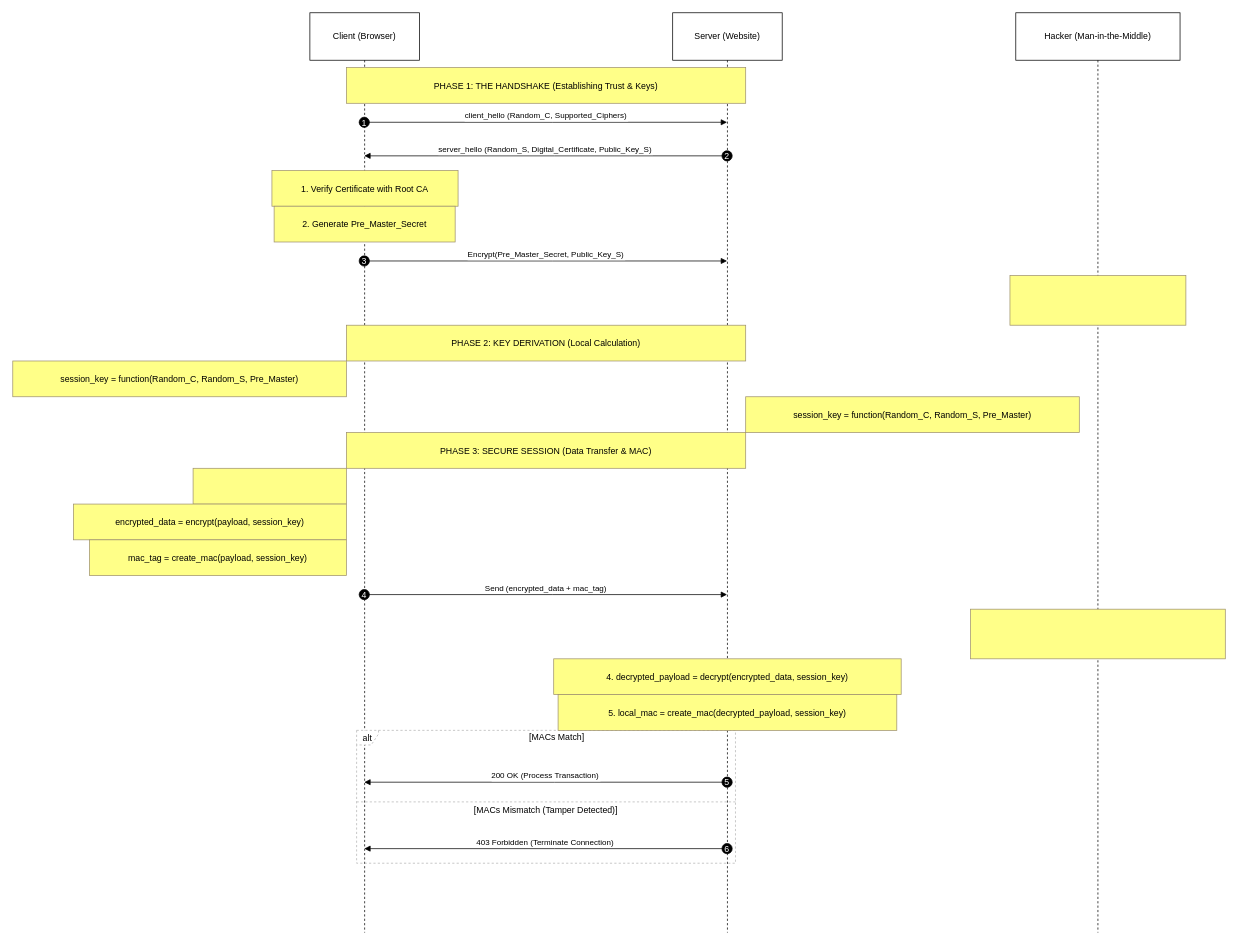
The diagram is 1238 pixels wide and 945 high, and some of its shapes have lost their labels. The shapes that lost their labels are listed below. From the top down, each one's centre as x and y in pixels, then its label:
point (1097, 300): Intercepts! But cannot decrypt without Server's Private Key.
point (269, 486): payload = "Transfer $100"
point (1097, 633): Intercepts! Changes data to "$900". Cannot update mac_tag without session_key.
